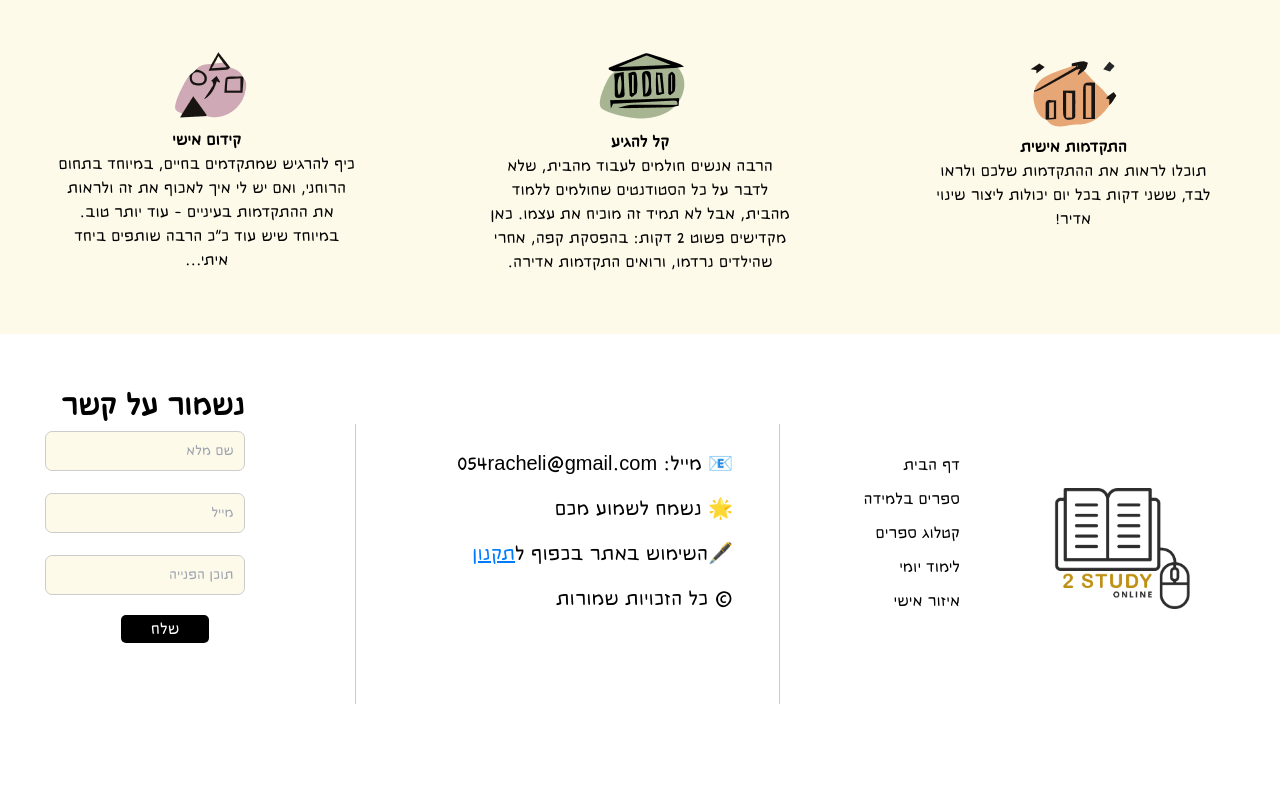
Test: Footer Contact Form › empty fields
(page scrolled)
Click the submit button at [165, 629], box [121,615,209,643]
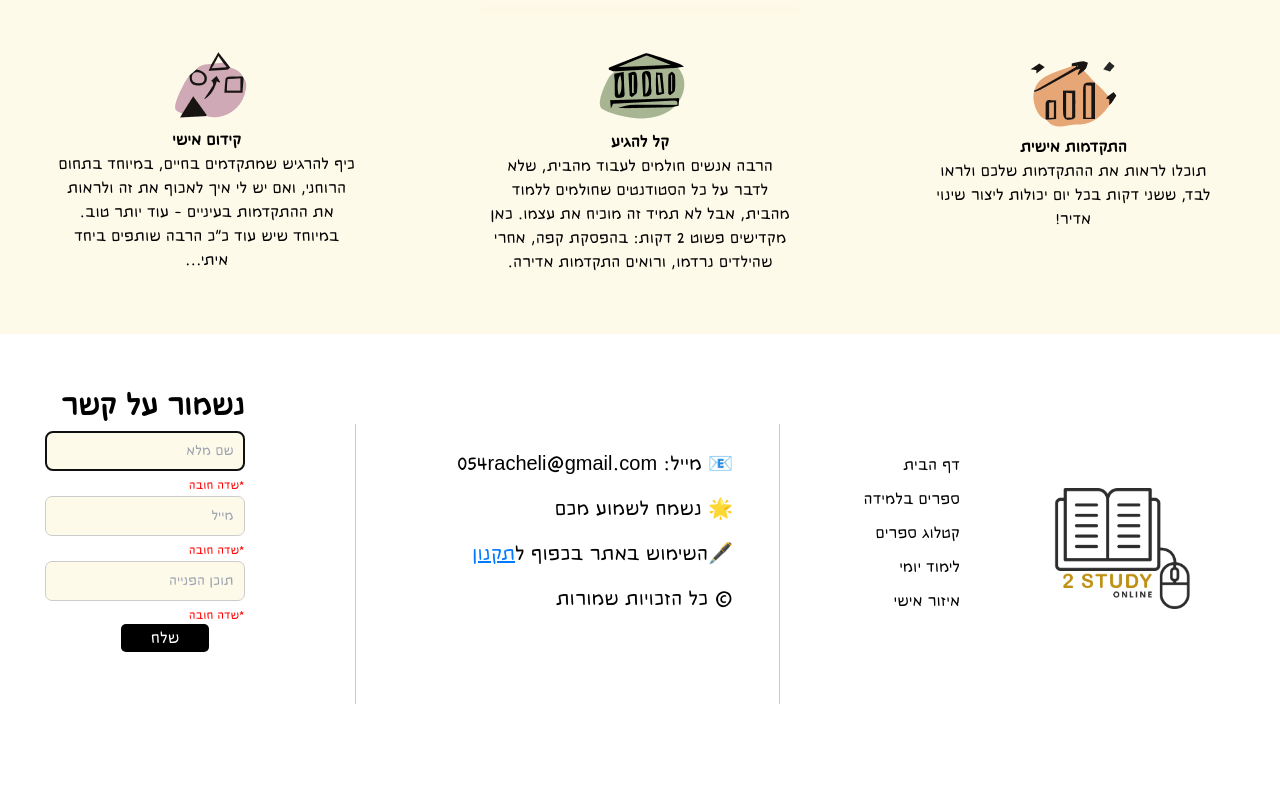
Now the 1st text "*" is shown, box [189,479,245,491]
Now the 2nd text "*" is shown, box [189,544,245,556]
Now the 3rd text "*" is shown, box [189,609,245,621]
